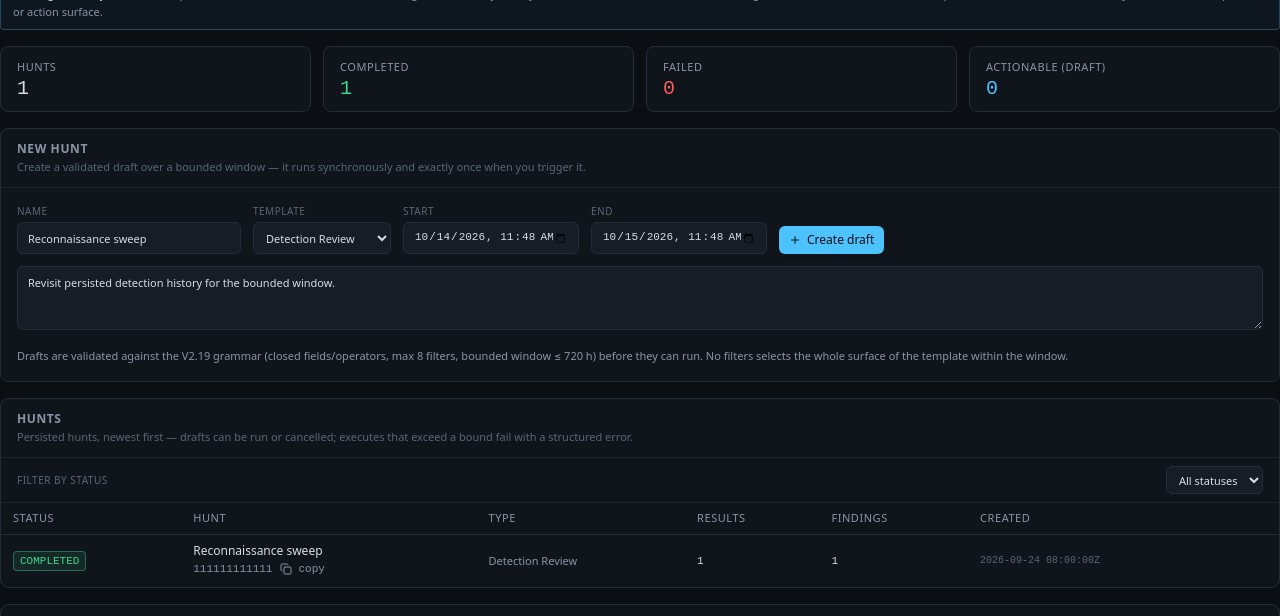
it: ThreatHuntingPage › opens findings for a completed hunt
Click the row with test id "threat-hunt-row". click: (50, 561)
box: [1, 534, 1279, 587]
(page scrolled)
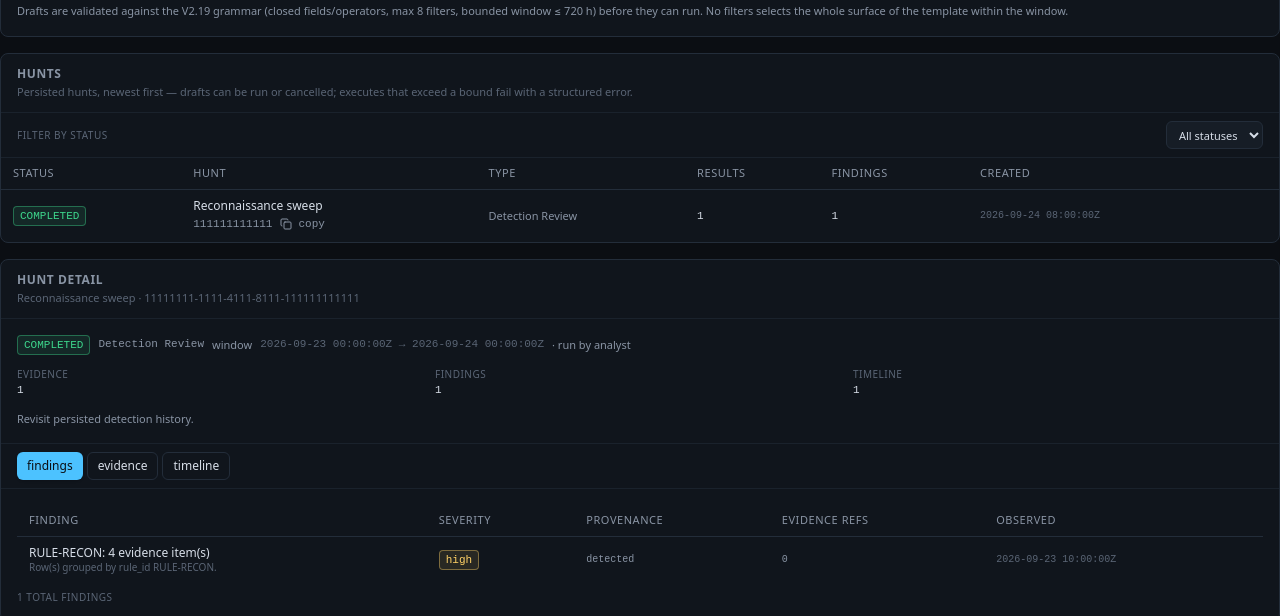
Now the element with test id "hunt-findings" is shown, box [17, 505, 1263, 605]
Now the row with test id "hunt-finding-row" is shown, box [17, 536, 1263, 582]
Now the text "RULE-RECON: 4 evidence item(s)" is shown, box [29, 544, 210, 561]
Click the button "evidence". click: (123, 466)
box: [87, 452, 158, 480]
(page scrolled)
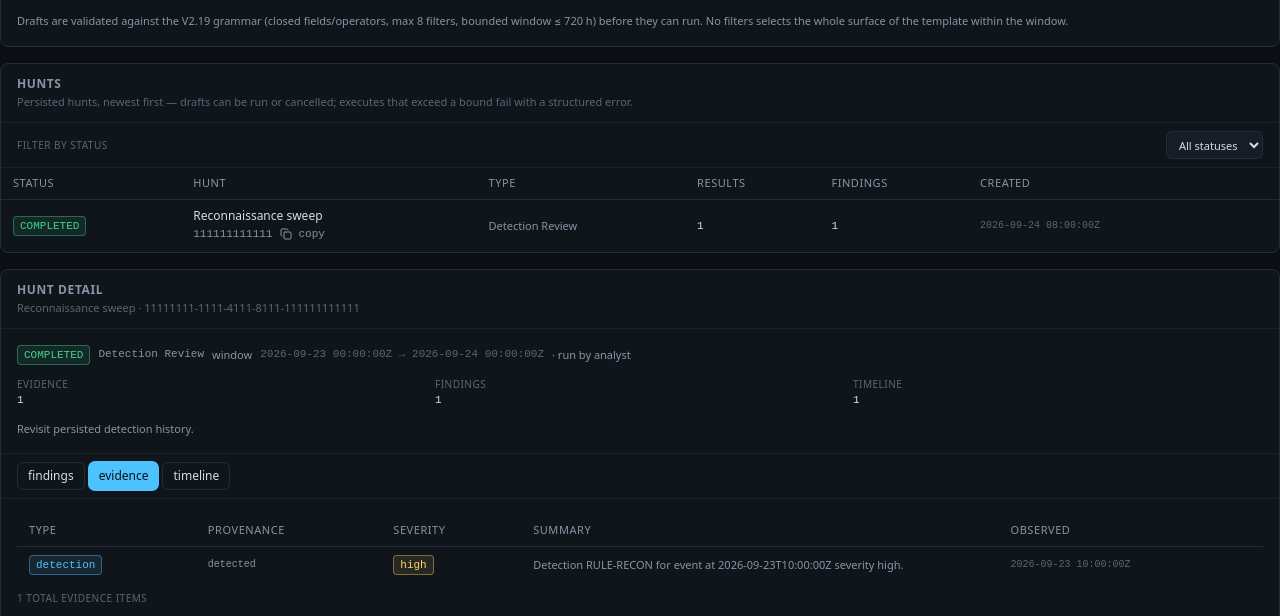
Now the row with test id "hunt-evidence-row" is shown, box [17, 546, 1263, 583]
Click the button "timeline". click: (196, 476)
box: [162, 462, 230, 490]
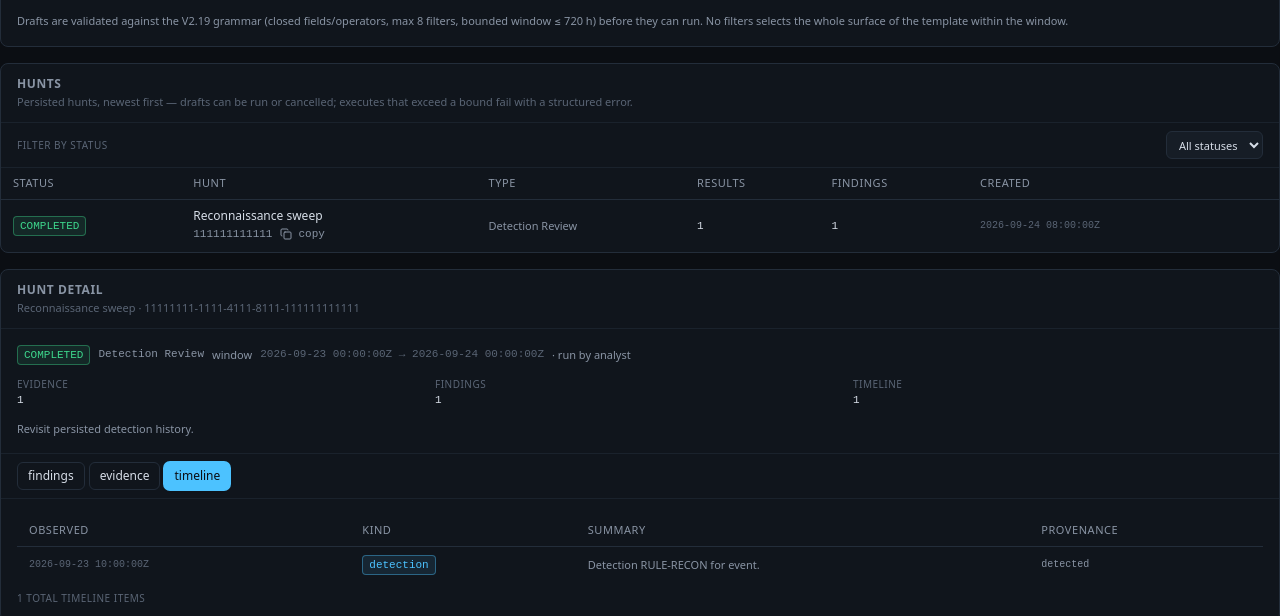
Now the row with test id "hunt-timeline-row" is shown, box [17, 546, 1263, 583]
